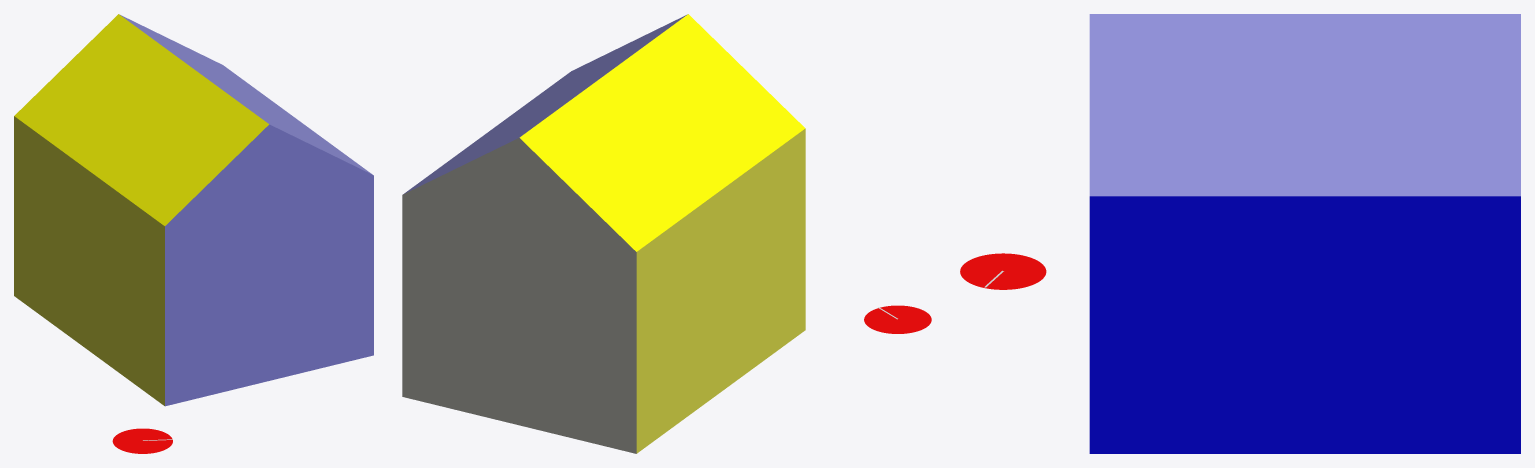
The model's file is result.glb.
The picture shows the model from 3 angles, left to right: view 1: azimuth 30°, elevation 25°; view 2: azimuth 150°, elevation 25°; view 3: azimuth 270°, elevation 25°; orthographic projection. The views are drawn at different scales.
Visible parts, largest first — view 1: 69f287ab-9c00-47b0-a411-596e268a9a60__undefined, 7da2adff-af7b-4040-91ba-99293f7f9264__undefined, 105bc6b7-4677-4f97-95c6-8ce3e5ca1fa9__undefined, b0705eb0-cc66-42b8-8ac1-1b0c646f18e8__undefined, 72e6be04-418b-46a4-9d20-4db7f1f69317__Circle; view 2: 22c4b773-7c0b-4fbe-ae9d-507947e6e688__undefined, 7da2adff-af7b-4040-91ba-99293f7f9264__undefined, 105bc6b7-4677-4f97-95c6-8ce3e5ca1fa9__undefined, b0705eb0-cc66-42b8-8ac1-1b0c646f18e8__undefined, 72e6be04-418b-46a4-9d20-4db7f1f69317__Circle; view 3: ba01670c-f761-46b9-a934-94a9a855e44f__undefined, b0705eb0-cc66-42b8-8ac1-1b0c646f18e8__undefined, 72e6be04-418b-46a4-9d20-4db7f1f69317__Circle.
Part boxes in pixels (x1,y1,x2,y2): 69f287ab-9c00-47b0-a411-596e268a9a60__undefined: [165, 124, 373, 406]; 7da2adff-af7b-4040-91ba-99293f7f9264__undefined: [14, 116, 164, 405]; 105bc6b7-4677-4f97-95c6-8ce3e5ca1fa9__undefined: [14, 14, 268, 225]; b0705eb0-cc66-42b8-8ac1-1b0c646f18e8__undefined: [119, 14, 372, 174]; 72e6be04-418b-46a4-9d20-4db7f1f69317__Circle: [112, 428, 172, 453]; 22c4b773-7c0b-4fbe-ae9d-507947e6e688__undefined: [402, 138, 636, 453]; 7da2adff-af7b-4040-91ba-99293f7f9264__undefined: [636, 128, 805, 453]; 105bc6b7-4677-4f97-95c6-8ce3e5ca1fa9__undefined: [519, 14, 805, 251]; b0705eb0-cc66-42b8-8ac1-1b0c646f18e8__undefined: [403, 14, 687, 194]; 72e6be04-418b-46a4-9d20-4db7f1f69317__Circle: [864, 305, 931, 333]; ba01670c-f761-46b9-a934-94a9a855e44f__undefined: [1089, 196, 1520, 453]; b0705eb0-cc66-42b8-8ac1-1b0c646f18e8__undefined: [1089, 14, 1520, 196]; 72e6be04-418b-46a4-9d20-4db7f1f69317__Circle: [960, 253, 1046, 289].
Size of the model in its own units: 550 by 469 by 650.
